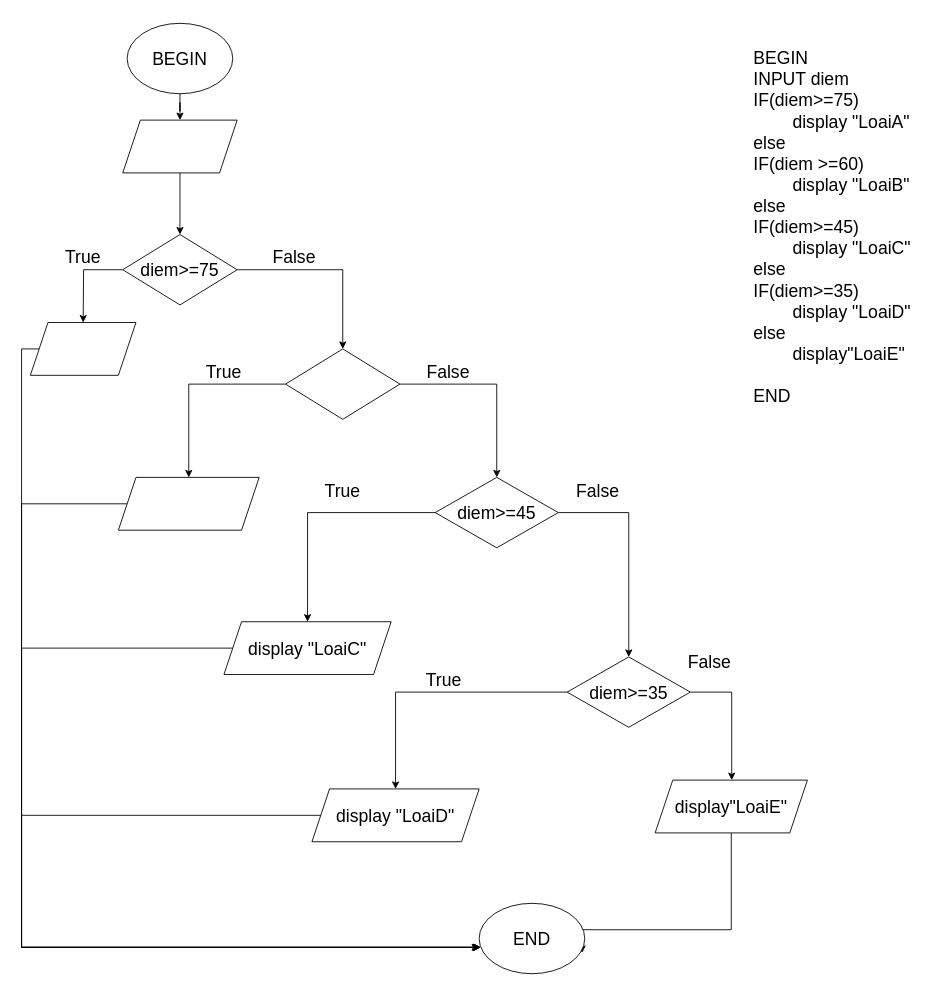
The diagram is 943 pixels wide and 989 high, and some of its shapes have lost their labels. The shapes that lost their labels are listed below. From the top down, each one's box as (x1, y1, x2, y2) in pixels, then its label:
(122, 119, 237, 173): INPUT diem
(29, 322, 136, 375): display "LoaiA"
(285, 348, 400, 419): diem >=60
(117, 477, 259, 530): display "LoaiB"
